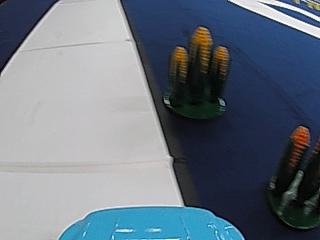corn: (160, 21, 234, 119), (265, 121, 319, 229)
